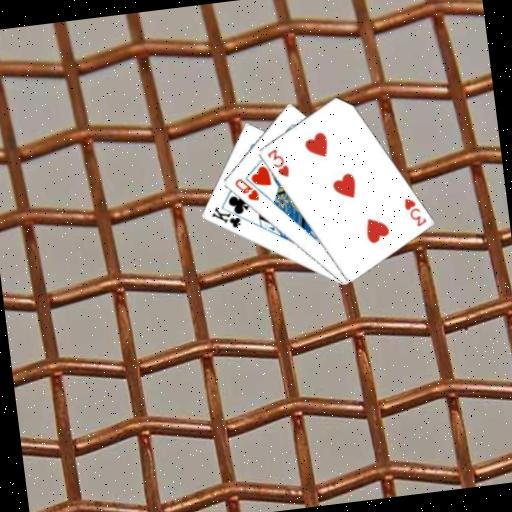3H: (400, 193, 428, 231), (263, 144, 291, 181)
KC: (207, 200, 249, 232)
QH: (231, 173, 261, 205)
